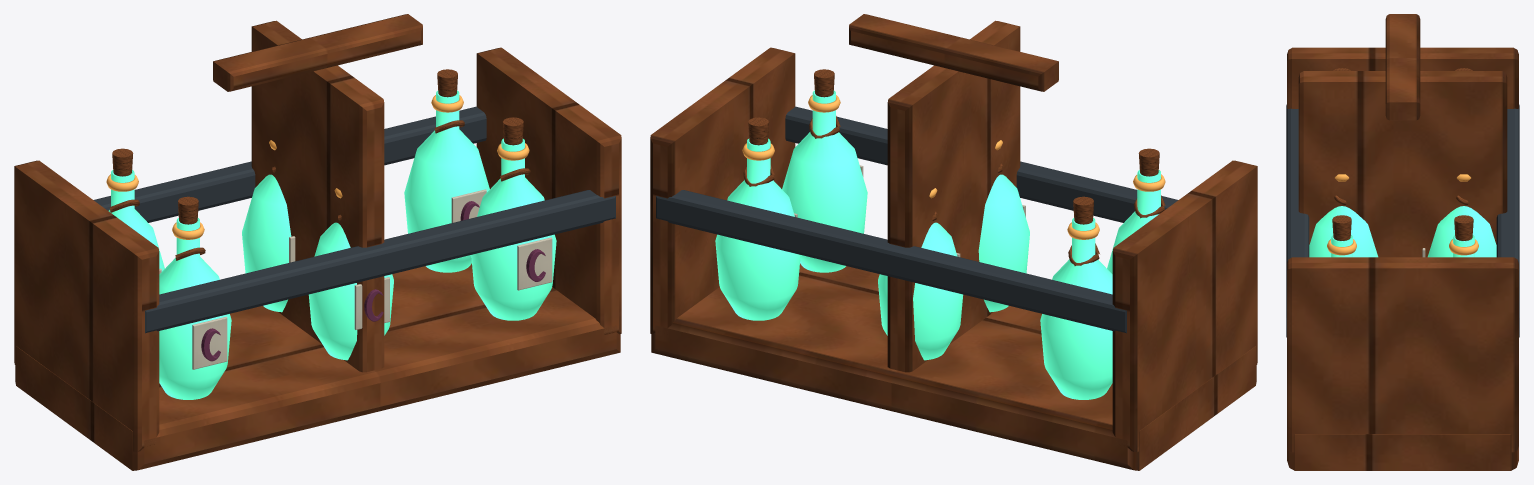
The model's file is hollowwick-halloween-potion-carry-rack-763e8250__21607.glb.
The picture shows the model from 3 angles, left to right: view 1: azimuth 30°, elevation 25°; view 2: azimuth 150°, elevation 25°; view 3: azimuth 270°, elevation 25°; orthographic projection. The views are drawn at different scales.
Visible parts, largest first — view 1: potion-carry-rack; view 2: potion-carry-rack; view 3: potion-carry-rack.
Part boxes in pixels (x1,y1,x2,y2): potion-carry-rack: (14, 14, 621, 470); potion-carry-rack: (650, 14, 1257, 470); potion-carry-rack: (1286, 14, 1519, 470).
Size of the model in its own units: 0.9 by 0.575 by 0.4024.
Materials: 6 (3 with a texture image).
